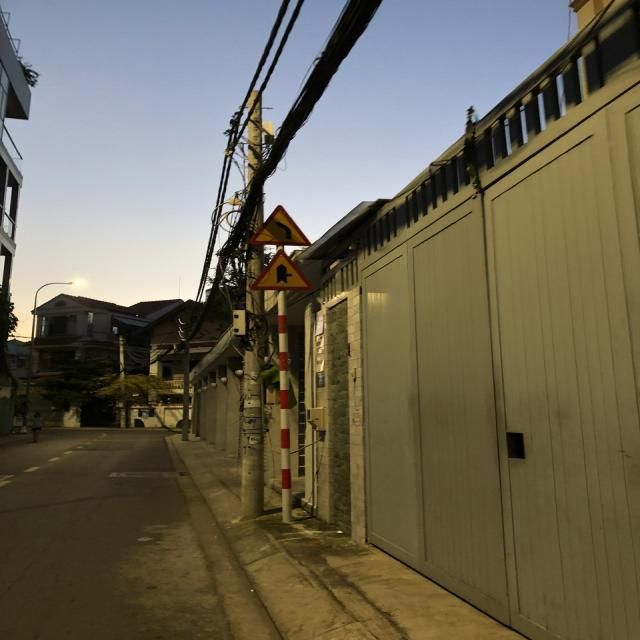Bien bao cho ngoat nguy hiem: (244, 204, 314, 246)
Bien bao giao nhau voi duong khong uu tien: (245, 249, 315, 293)
